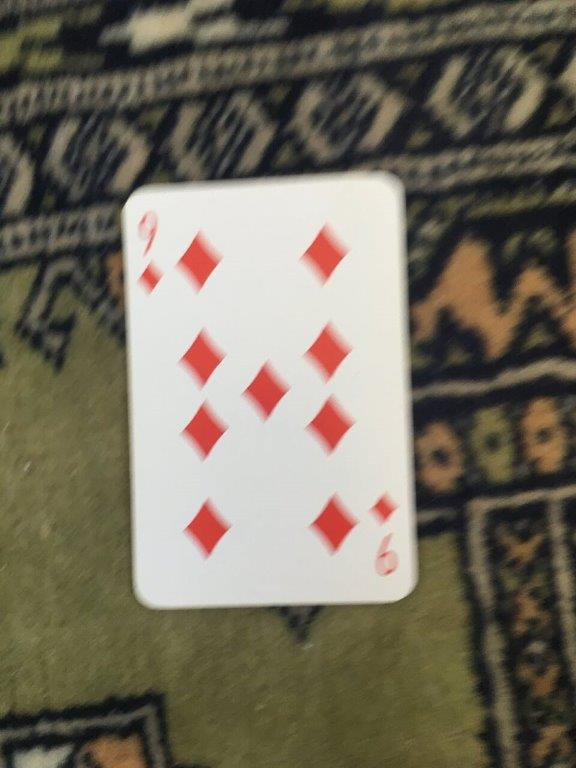9D: (115, 166, 422, 614)
